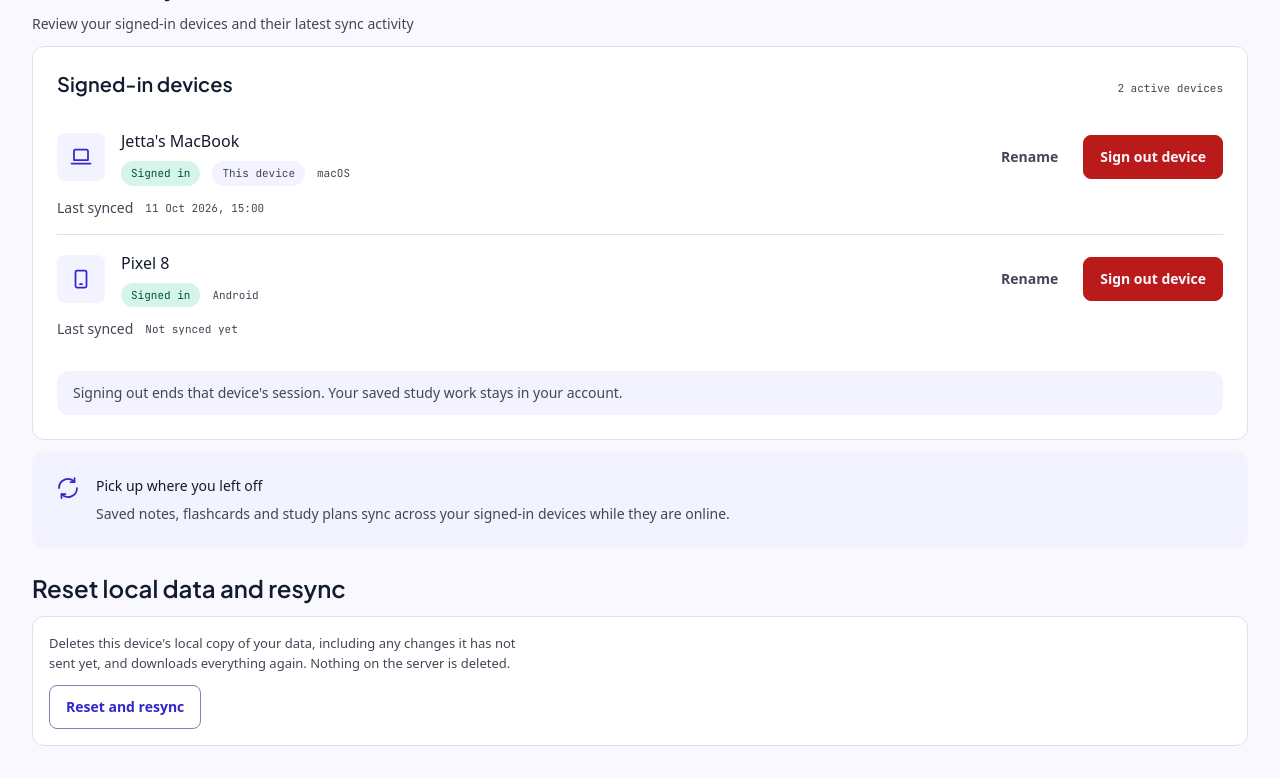
Test: the devices screen › offers "Reset local data and resync" and says what it deletes
(page scrolled)
Expected: the text "Jetta's MacBook" is shown, [121, 130, 239, 152]
Expected: the text "has not sent yet" is shown, [49, 634, 516, 672]
Click the button "Reset and resync" at point(125, 707), box [49, 685, 201, 729]
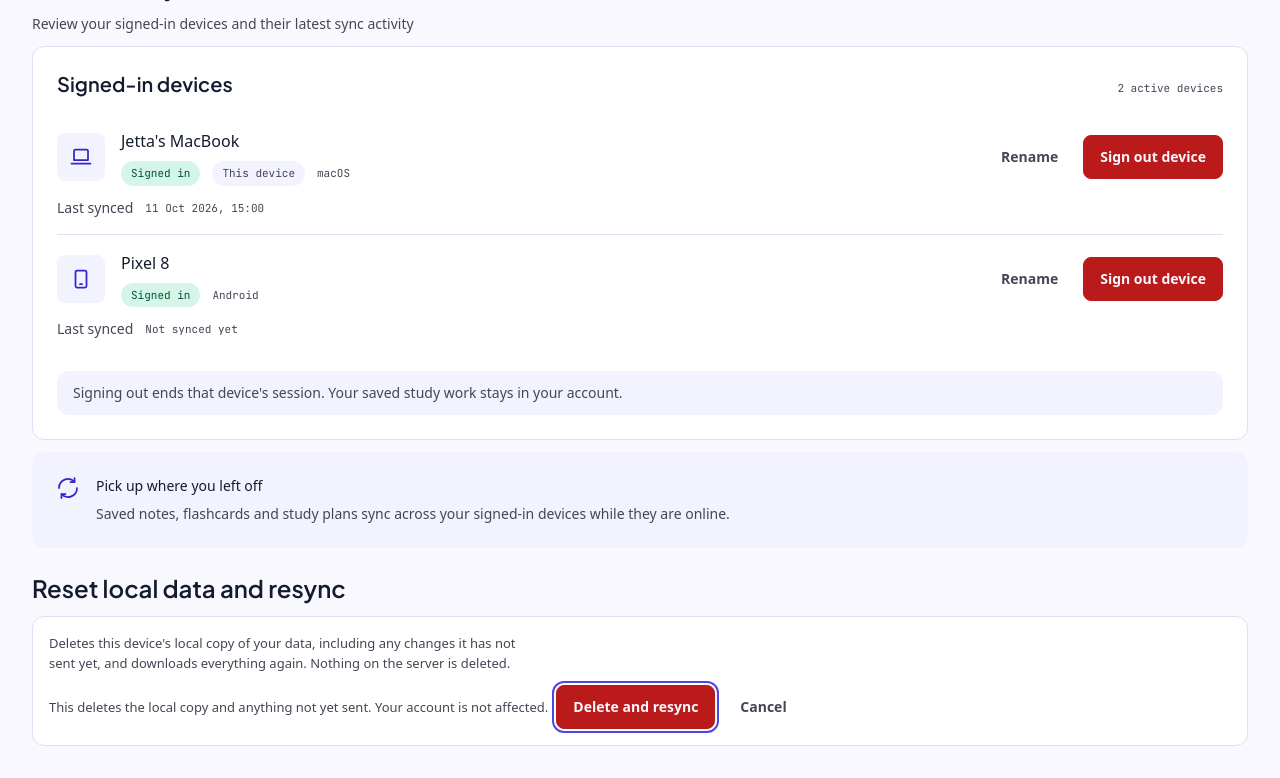
Now the text "anything not yet sent" is shown, box [49, 698, 548, 716]
Click the button "Delete and resync" at point(636, 707), box [556, 685, 715, 729]
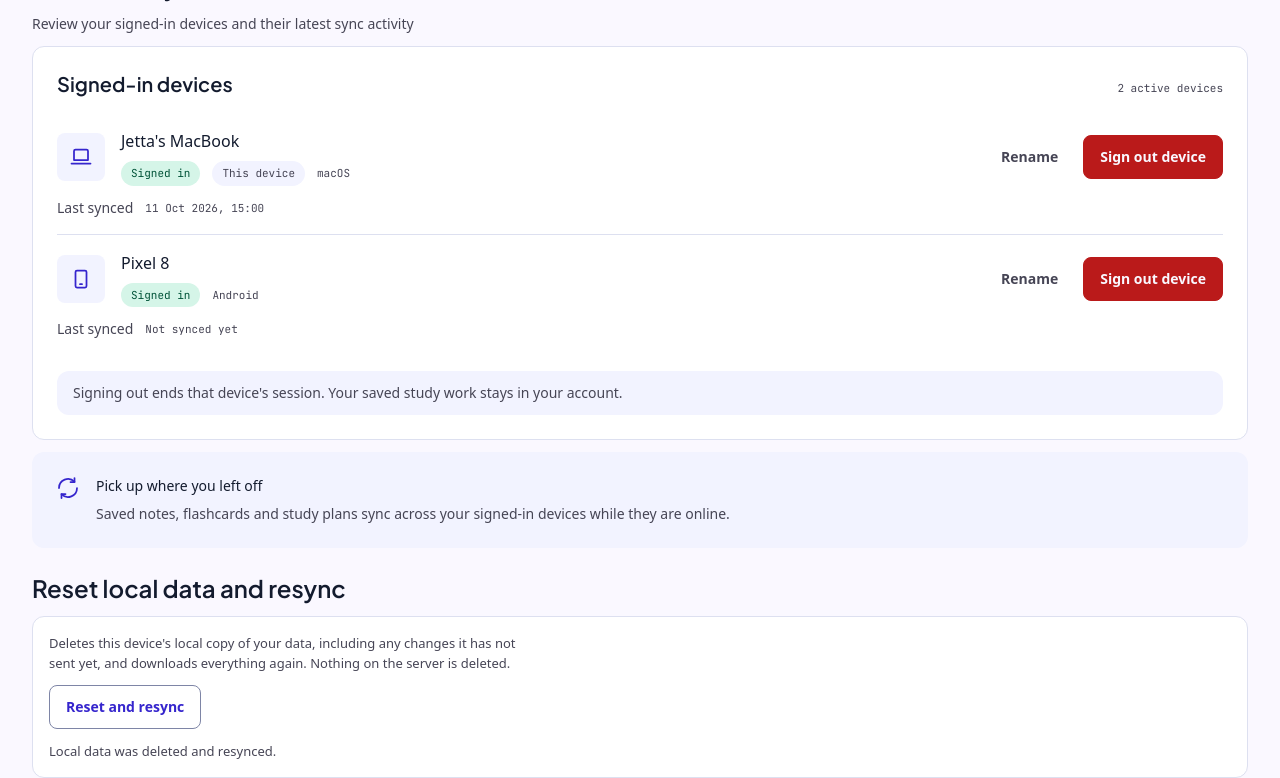
Now the text "Local data was deleted and resynced." is shown, box [49, 742, 276, 760]
